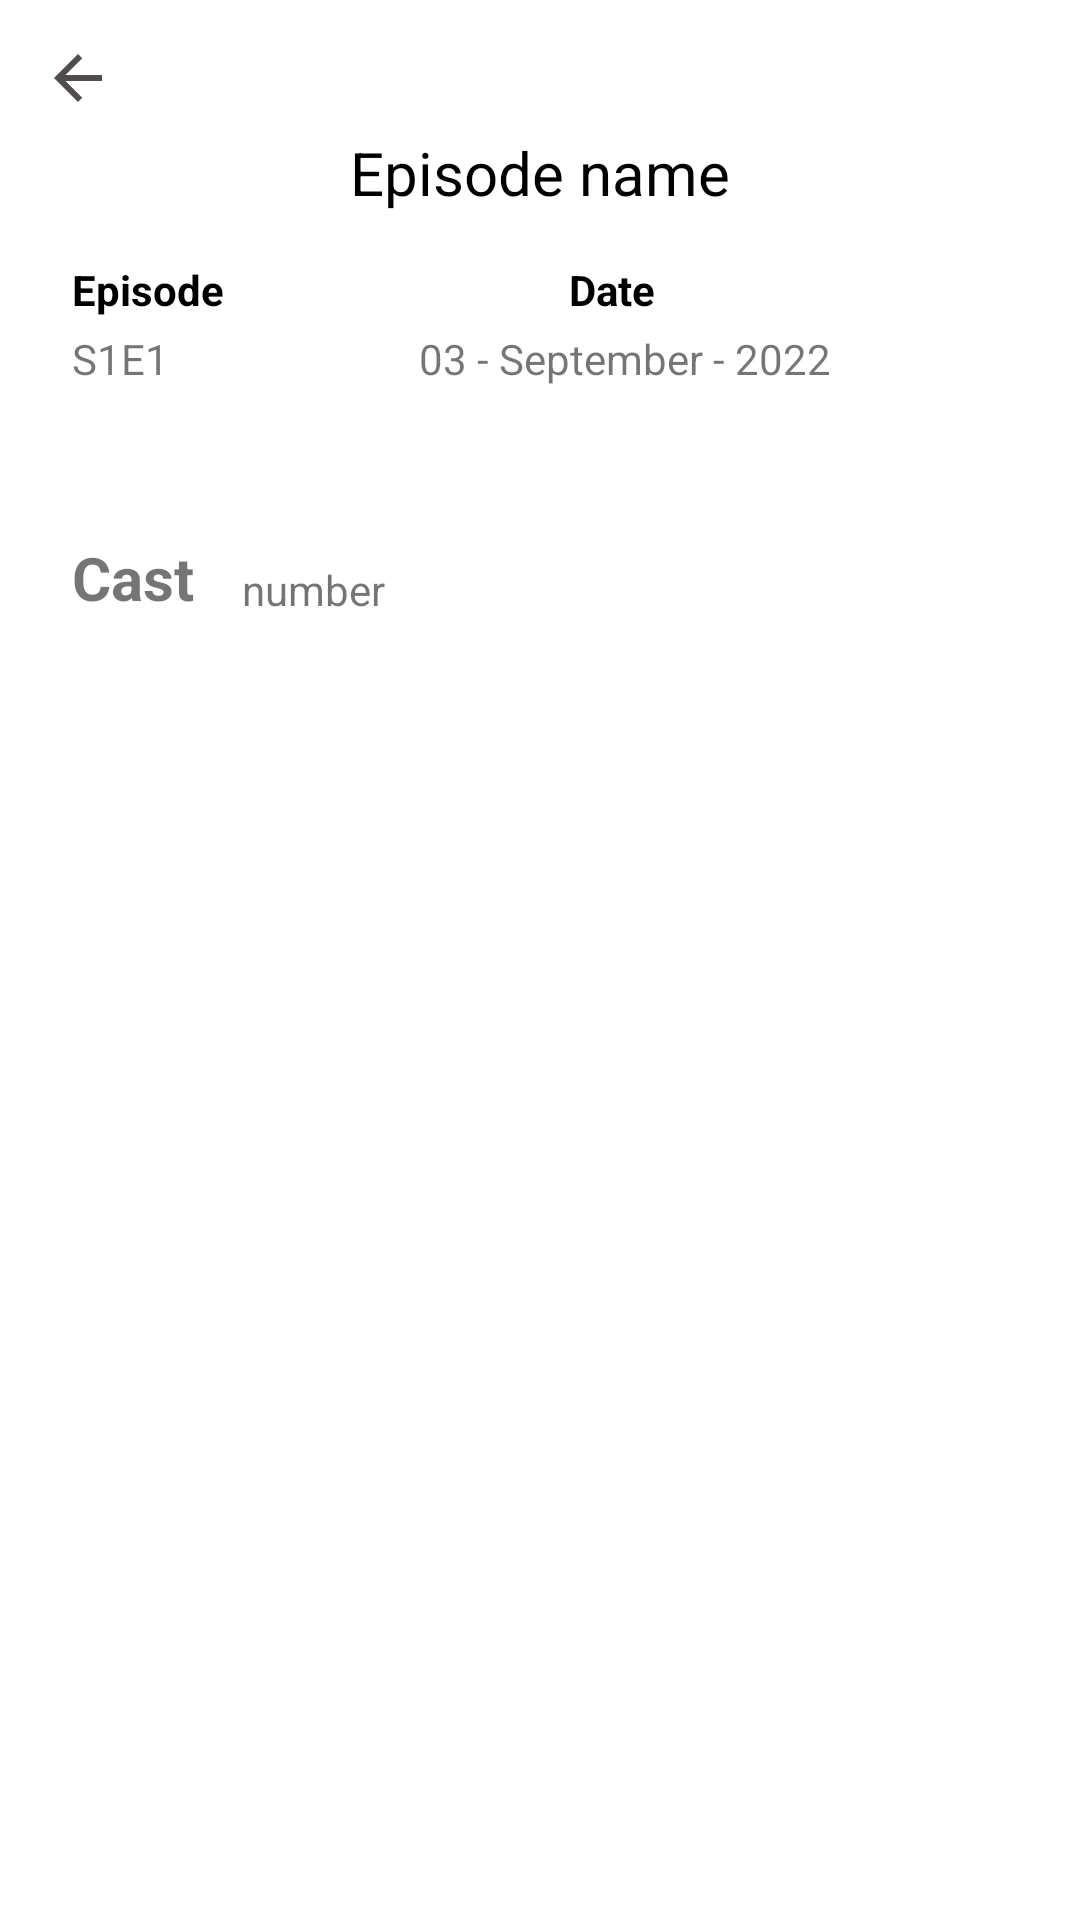

Point at icon controls on the screen. Image size 1080 x 1920, points as point (x, y).
arrow back: point (78, 78)
